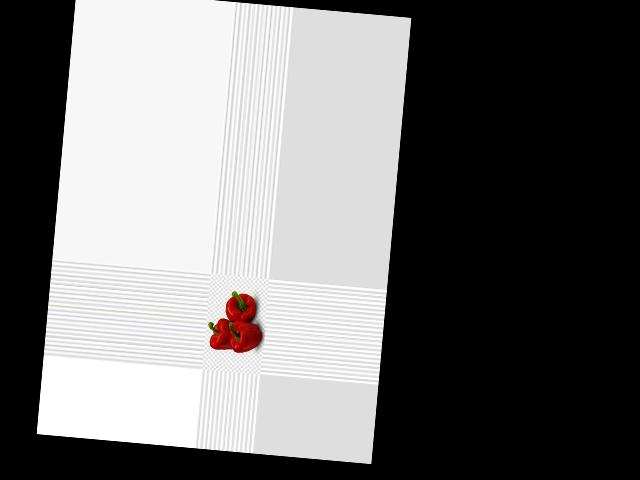bell_pepper: (220, 288, 260, 327)
